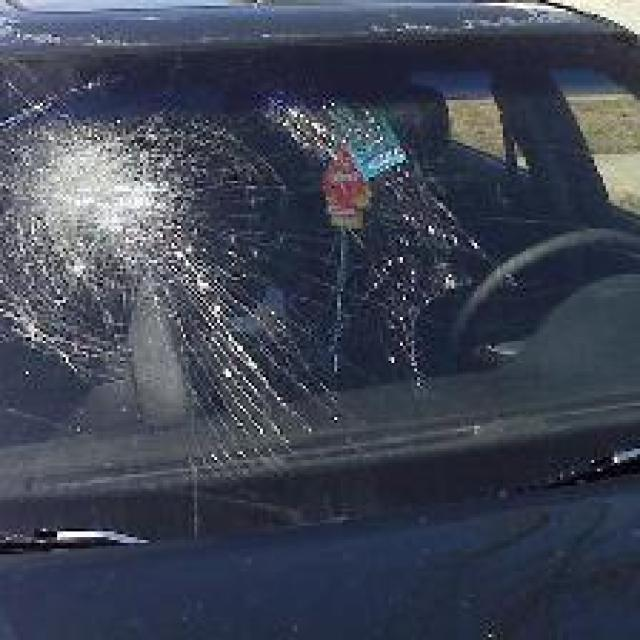glass_shatter_moderate: (0, 80, 457, 369)
